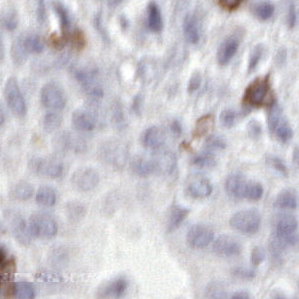Lymphocyte: (243, 76, 274, 108)
